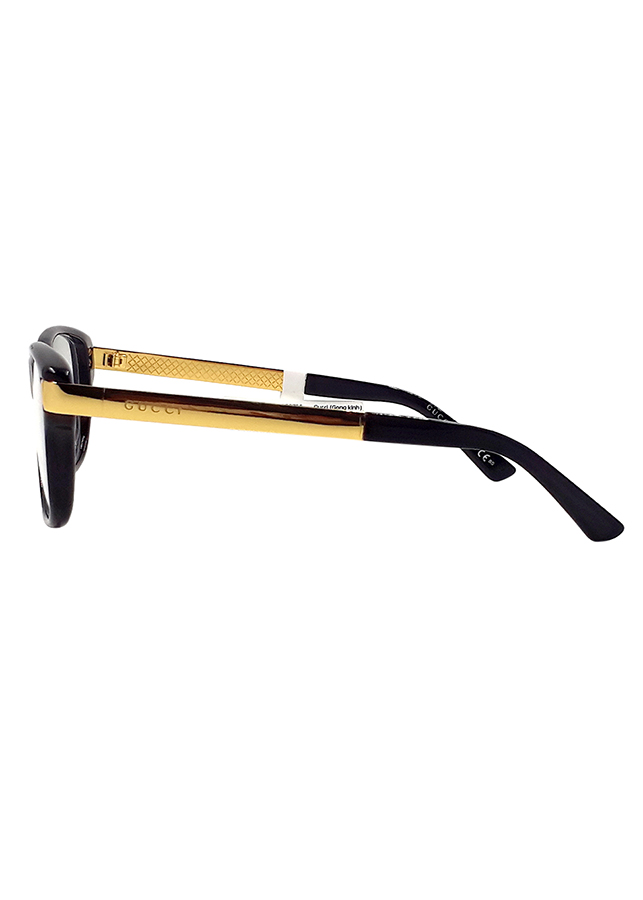Gucci: (120, 391, 189, 422)
